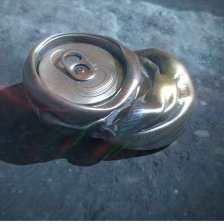can: (15, 21, 205, 155)
